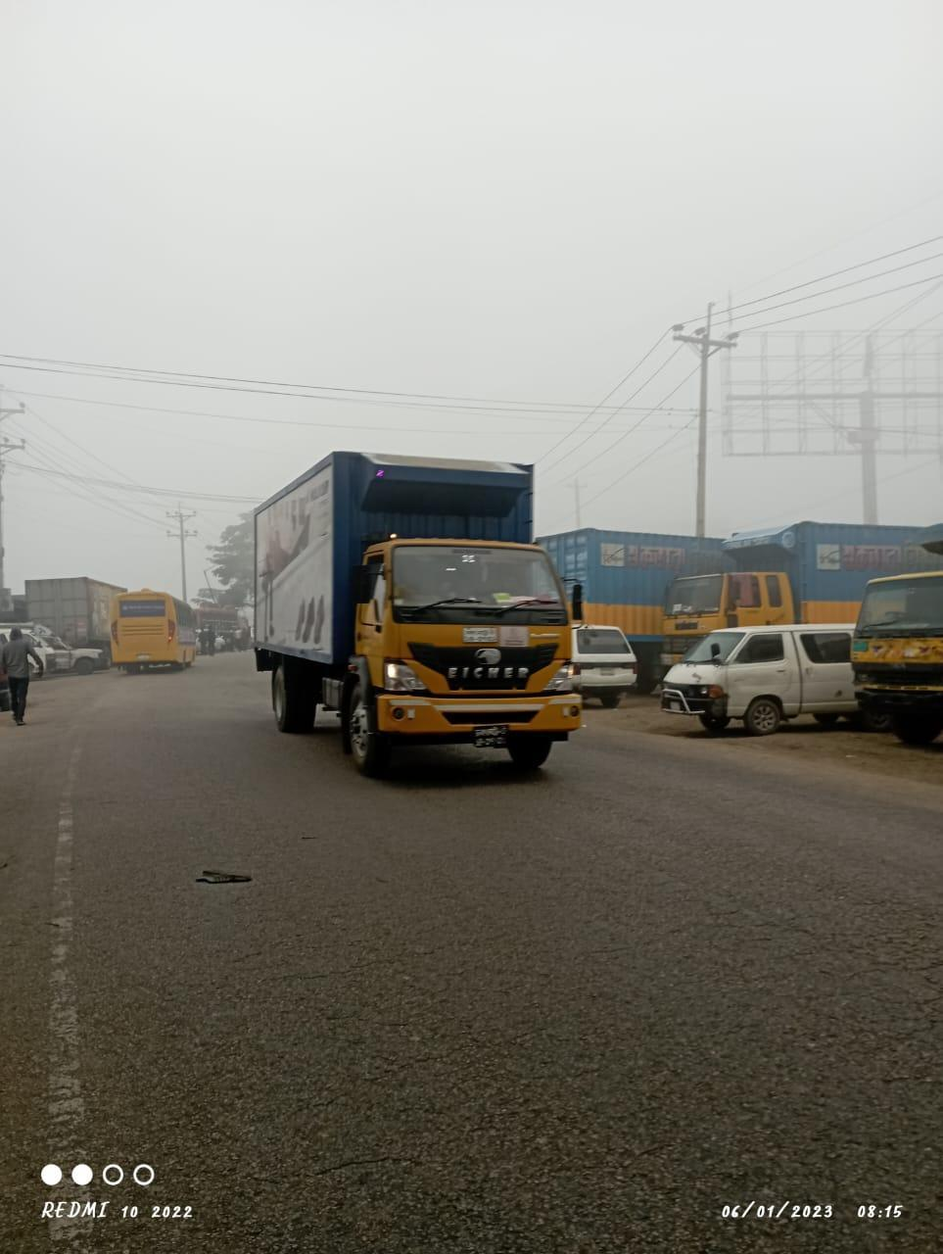Bus: (100, 585, 202, 682)
Car: (654, 622, 862, 733), (574, 608, 643, 706)
Truck: (244, 439, 599, 781), (659, 521, 863, 657), (854, 534, 943, 763), (542, 517, 671, 663), (12, 573, 125, 657)
